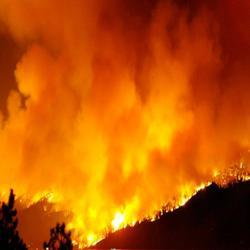fire: (109, 211, 129, 231), (179, 187, 202, 202), (83, 232, 104, 244)
smoke: (63, 59, 177, 148)
